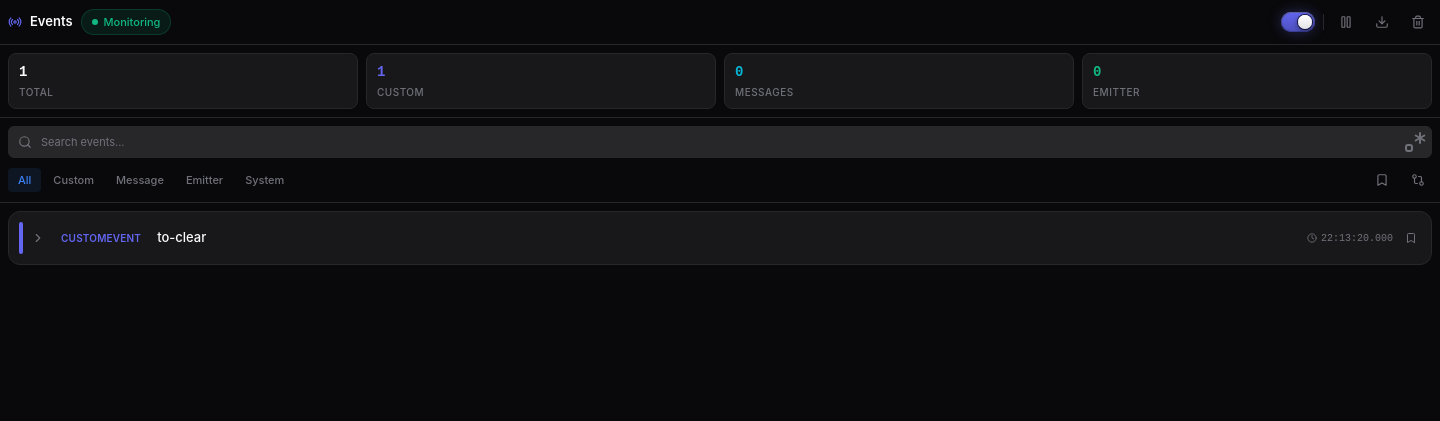
Test: EventsTab › clears events in the background and locally
Expected: the text "to-clear" is shown, left=157, top=229, right=206, bottom=245
Click the button titled "Clear events" at (1418, 22), box left=1404, top=8, right=1432, bottom=36
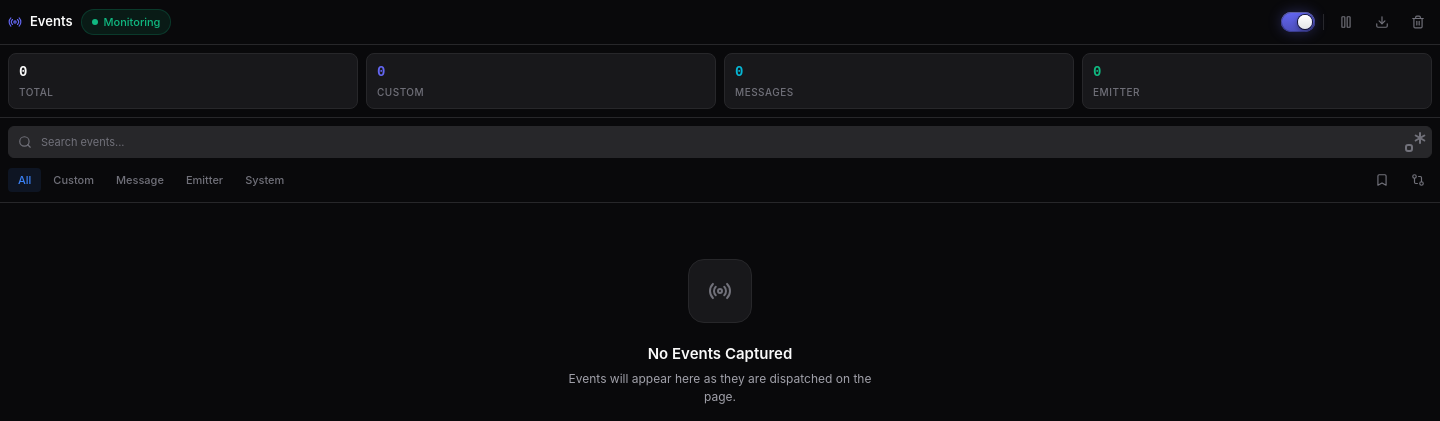
Expected: the text "to-clear" is gone
